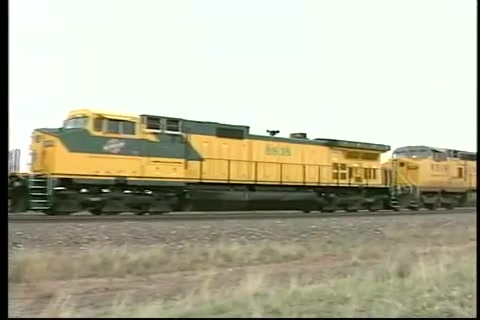train: (10, 109, 479, 218)
